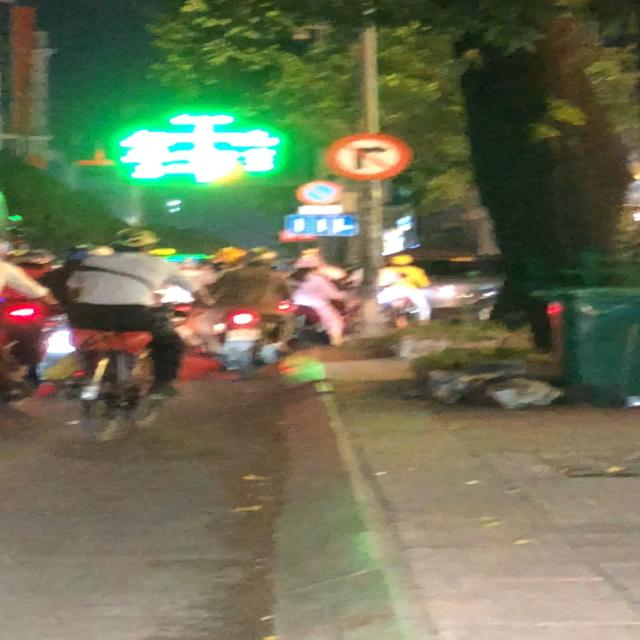Bien bao cam re phai: (326, 132, 415, 184)
